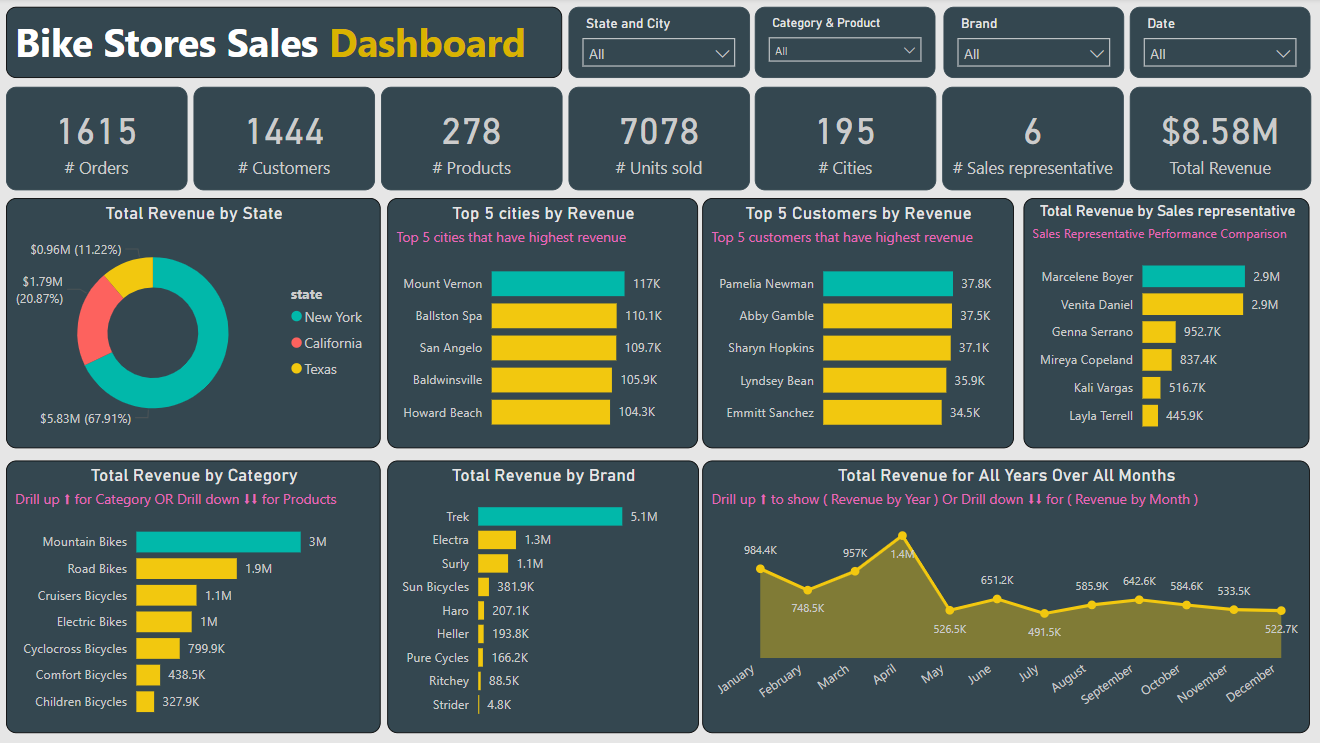

Layout of this report page (visuals, bound fields, positions):
{"tool":"powerbi","page":{"name":"Page 1","canvas":[1280,720],"ordinal":0},"visuals":[{"type":"textbox","box":[9.6,8.2,536.5,68.6],"z":0},{"type":"card","fields":{"Values":["Bikestores.NO. Orders"]},"box":[9.7,85.7,175,100],"z":1000},{"type":"card","fields":{"Values":["Bikestores.NO. Customers"]},"box":[190.5,85.7,174.9,100.1],"z":2000},{"type":"card","fields":{"Values":["Bikestores.NO. Products"]},"box":[371.2,85.7,174.9,100.1],"z":3000},{"type":"card","fields":{"Values":["Bikestores.NO. Units"]},"box":[552,85.7,174.9,100.1],"z":4000},{"type":"card","fields":{"Values":["Bikestores.NO. Cities"]},"box":[732.7,85.7,174.9,100.1],"z":5000},{"type":"card","fields":{"Values":["Bikestores.NO. Sales_rep"]},"box":[913.5,85.7,174.9,100.1],"z":6000},{"type":"card","fields":{"Values":["Bikestores.Total Revenue"]},"box":[1094.2,85.7,174.9,100.1],"z":7000},{"type":"donutChart","title":"Total Revenue by State","fields":{"Category":["Bikestores.state"],"Y":["Bikestores.Total Revenue"]},"box":[9.7,193,361.9,241.3],"z":8000},{"type":"barChart","title":"Top 5 cities by Revenue","fields":{"Category":["Bikestores.city"],"Y":["Bikestores.Total Revenue"]},"box":[377.6,193,300,241.3],"z":9000},{"type":"barChart","title":"Total Revenue by Category","fields":{"Category":["Bikestores.category_name","Bikestores.product_name"],"Y":["Bikestores.Total Revenue"]},"box":[9.7,446.4,361.9,263],"z":10000},{"type":"lineChart","fields":{"Y":["Bikestores.Total Revenue"],"Category":["Bikestores.order_date.Variation.Date Hierarchy.Year","Bikestores.order_month"]},"box":[681.6,446.4,586.3,263],"z":11000},{"type":"barChart","title":"Top 5 Customers by Revenue","fields":{"Category":["Bikestores.customer_name"],"Y":["Bikestores.Total Revenue"]},"box":[682,193.5,300.5,241.5],"z":12000},{"type":"barChart","title":"Total Revenue by Sales representative","fields":{"Category":["Bikestores.sales_rep"],"Y":["Bikestores.Total Revenue"]},"box":[991.7,193,276.3,241.3],"z":13000},{"type":"barChart","title":"Total Revenue by Brand","fields":{"Category":["Bikestores.brand_name"],"Y":["Bikestores.Total Revenue"]},"box":[377.6,446.4,300.4,263],"z":14000},{"type":"slicer","fields":{"Values":["Bikestores.state","Bikestores.city"]},"box":[552.5,8.4,174.9,68.8],"z":15000},{"type":"slicer","fields":{"Values":["Bikestores.category_name","Bikestores.product_name"]},"box":[732.8,8.2,174.3,68.6],"z":16000},{"type":"slicer","fields":{"Values":["Bikestores.brand_name"]},"box":[913.9,8.2,174.3,68.6],"z":17000},{"type":"slicer","fields":{"Values":["Bikestores.order_date.Variation.Date Hierarchy.Year","Bikestores.order_date.Variation.Date Hierarchy.Quarter","Bikestores.order_date.Variation.Date Hierarchy.Month"]},"box":[1093.7,8.2,174.3,68.6],"z":18000}]}

Visuals, with their boxes in screenshot pixels (x1, y1, x2, y2), scaled from the page's 1280x720 canvas onto the 1320x743 screenshot:
textbox: (x1=10, y1=8, x2=563, y2=79)
card - Bikestores.NO. Orders: (x1=10, y1=88, x2=190, y2=192)
card - Bikestores.NO. Customers: (x1=196, y1=88, x2=377, y2=192)
card - Bikestores.NO. Products: (x1=383, y1=88, x2=563, y2=192)
card - Bikestores.NO. Units: (x1=569, y1=88, x2=750, y2=192)
card - Bikestores.NO. Cities: (x1=756, y1=88, x2=936, y2=192)
card - Bikestores.NO. Sales_rep: (x1=942, y1=88, x2=1122, y2=192)
card - Bikestores.Total Revenue: (x1=1128, y1=88, x2=1309, y2=192)
"Total Revenue by State" donutChart: (x1=10, y1=199, x2=383, y2=448)
"Top 5 cities by Revenue" barChart: (x1=389, y1=199, x2=699, y2=448)
"Total Revenue by Category" barChart: (x1=10, y1=461, x2=383, y2=732)
lineChart - Bikestores.Total Revenue x Bikestores.order_date.Variation.Date Hierarchy.Year: (x1=703, y1=461, x2=1308, y2=732)
"Top 5 Customers by Revenue" barChart: (x1=703, y1=200, x2=1013, y2=449)
"Total Revenue by Sales representative" barChart: (x1=1023, y1=199, x2=1308, y2=448)
"Total Revenue by Brand" barChart: (x1=389, y1=461, x2=699, y2=732)
slicer - Bikestores.state x Bikestores.city: (x1=570, y1=9, x2=750, y2=80)
slicer - Bikestores.category_name x Bikestores.product_name: (x1=756, y1=8, x2=935, y2=79)
slicer - Bikestores.brand_name: (x1=942, y1=8, x2=1122, y2=79)
slicer - Bikestores.order_date.Variation.Date Hierarchy.Year x Bikestores.order_date.Variation.Date Hierarchy.Quarter: (x1=1128, y1=8, x2=1308, y2=79)
